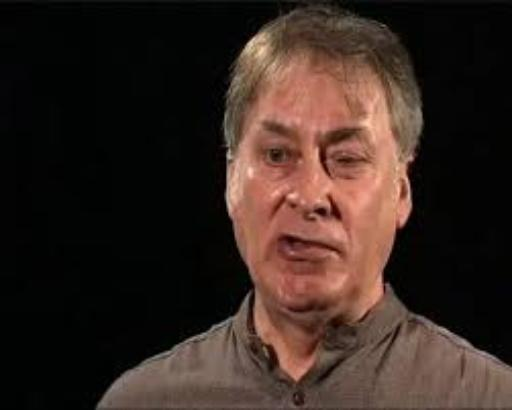left_eye: (332, 154, 370, 167)
left_lip_corner: (331, 244, 348, 261)
right_eye: (262, 146, 298, 166)
right_lip_corner: (272, 233, 288, 250)
